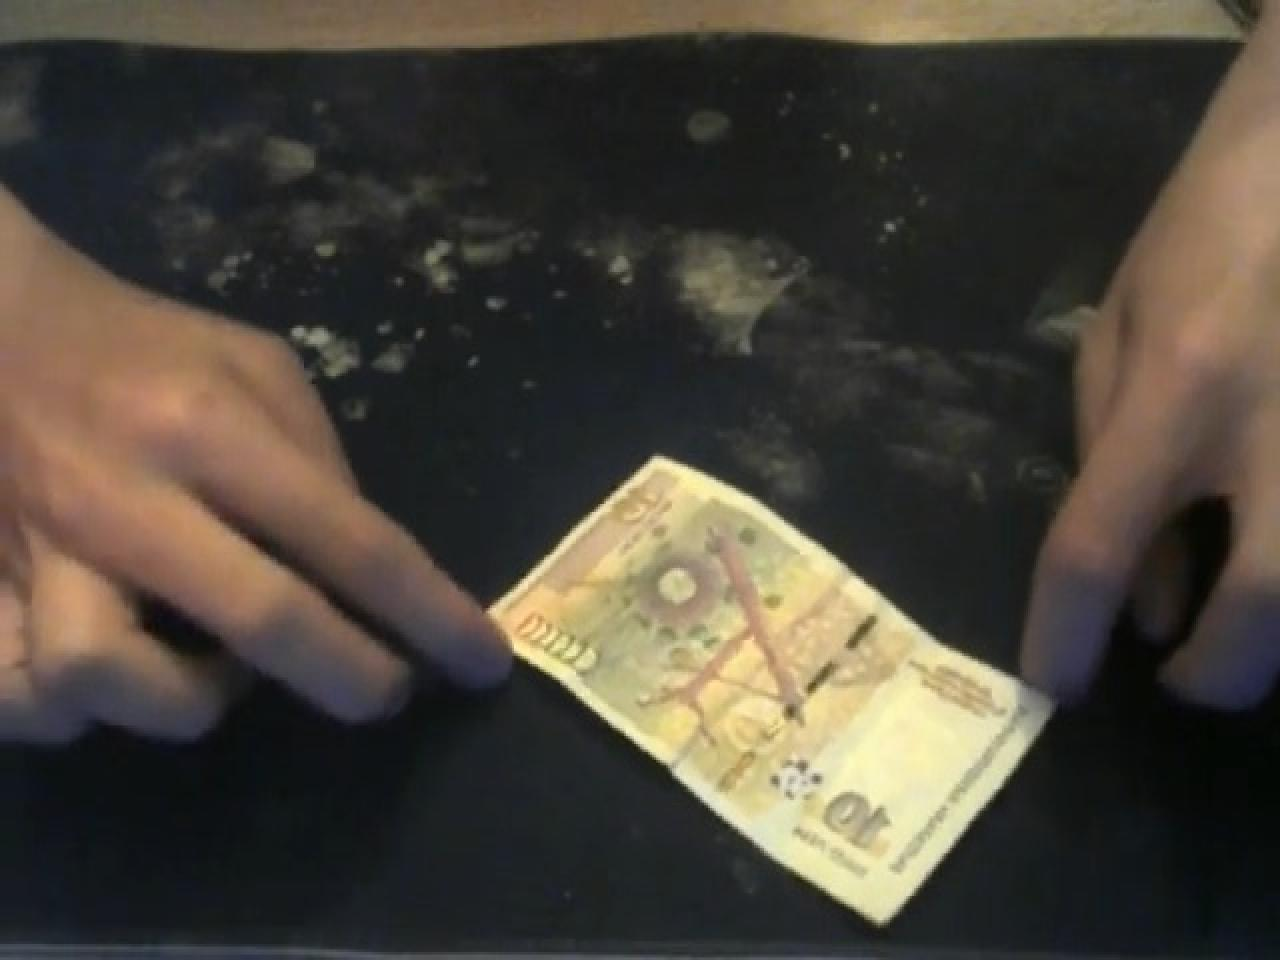10leva: (490, 456, 1056, 928)
